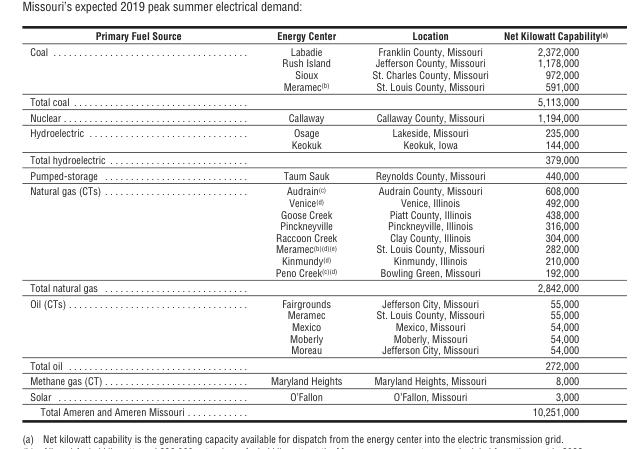table: (29, 29, 607, 417)
table column: (29, 29, 226, 417), (356, 29, 495, 417), (226, 29, 356, 417), (495, 29, 607, 417)
table column header: (29, 29, 607, 93)
table row: (29, 29, 607, 93), (29, 93, 607, 109), (29, 151, 607, 167), (29, 279, 607, 295), (29, 372, 607, 388), (29, 109, 607, 124), (29, 167, 607, 182), (29, 357, 607, 372), (29, 388, 607, 403), (29, 124, 607, 138), (29, 182, 607, 196), (29, 343, 607, 357), (29, 403, 607, 417), (29, 138, 607, 151), (29, 266, 607, 279), (29, 295, 607, 308), (29, 207, 607, 219), (29, 219, 607, 231), (29, 242, 607, 254), (29, 254, 607, 266), (29, 308, 607, 320), (29, 331, 607, 343), (29, 196, 607, 207), (29, 231, 607, 242), (29, 320, 607, 331)
table spanning cell: (29, 182, 226, 279), (29, 295, 226, 357), (29, 124, 226, 151)
